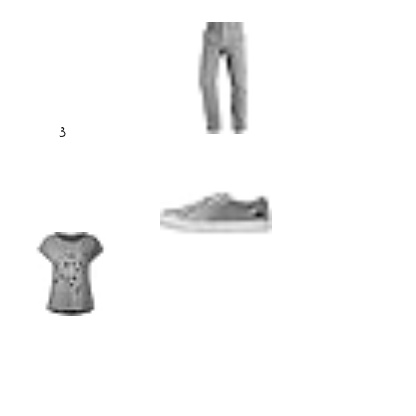5: (169, 168, 211, 210), (133, 197, 161, 225)
Dress: (256, 116, 368, 228)
Pullover: (74, 266, 158, 350), (80, 371, 108, 399)
